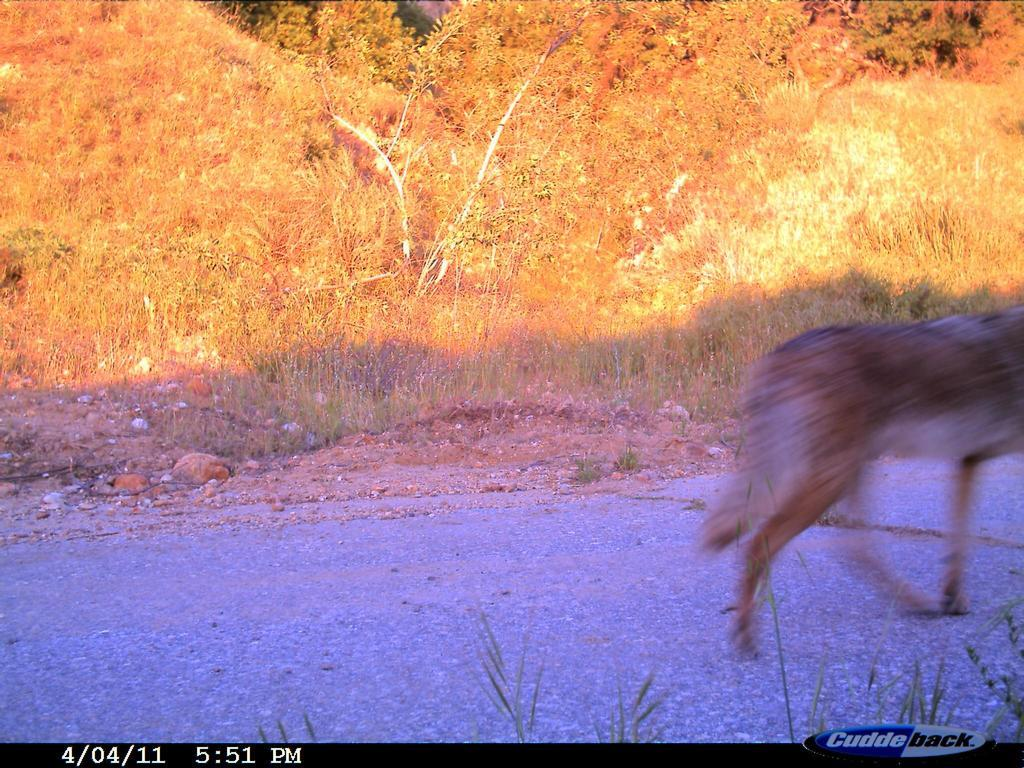coyote: (679, 278, 1022, 676)
